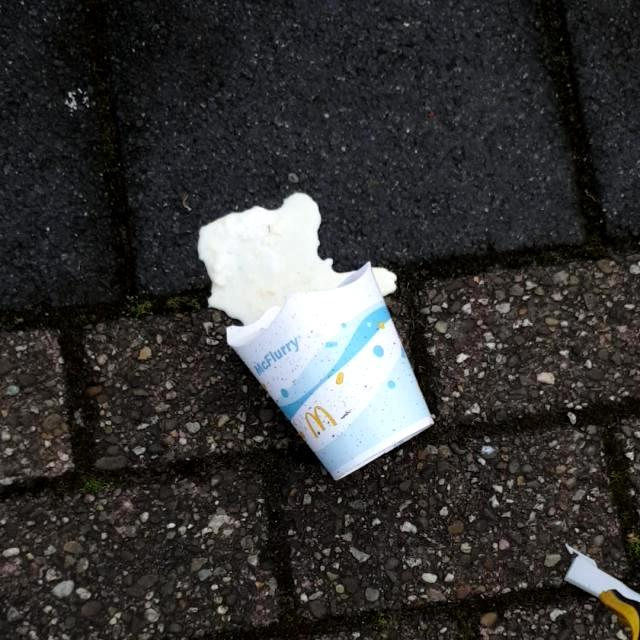Paper: (224, 258, 438, 482)
